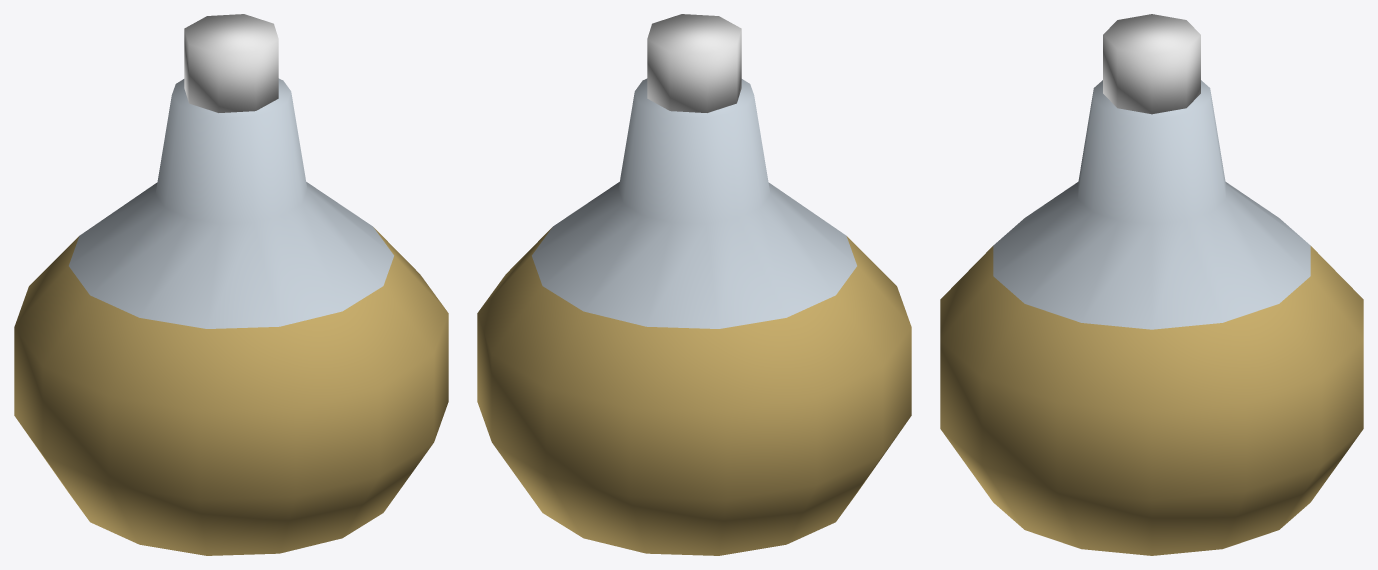
The model's file is sandstorm_in_a_bottle.glb.
The picture shows the model from 3 angles, left to right: view 1: azimuth 30°, elevation 25°; view 2: azimuth 150°, elevation 25°; view 3: azimuth 270°, elevation 25°; orthographic projection.
Parts seen in each view (by area): view 1: sandstorm_in_a_bottle_v0; view 2: sandstorm_in_a_bottle_v0; view 3: sandstorm_in_a_bottle_v0.
Part boxes in pixels (x1=…): sandstorm_in_a_bottle_v0: x1=14, y1=14, x2=448, y2=555; sandstorm_in_a_bottle_v0: x1=477, y1=14, x2=911, y2=555; sandstorm_in_a_bottle_v0: x1=940, y1=14, x2=1363, y2=555.
Size of the model in its own units: 0.24 by 0.276 by 0.234.
